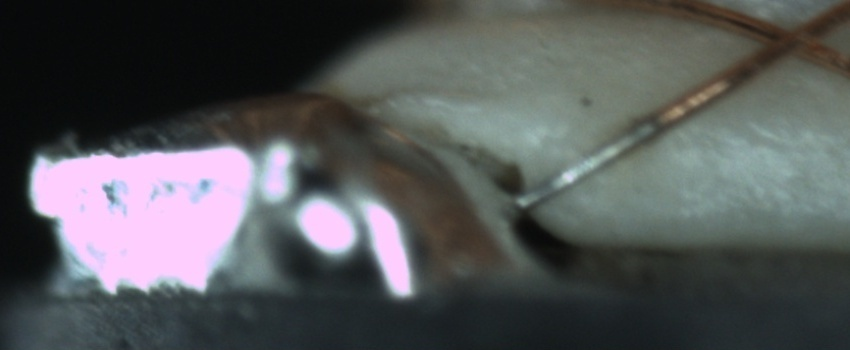CL: (747, 5, 838, 68)
DL: (685, 113, 850, 167)
TS: (516, 118, 658, 212)
